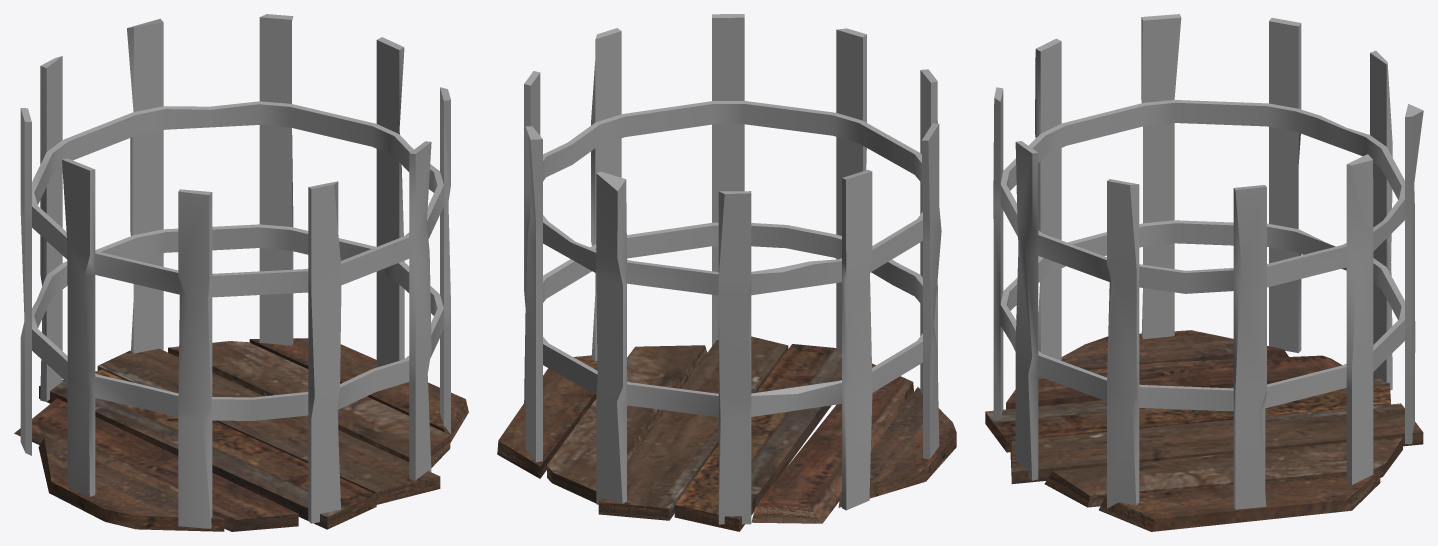
The model's file is SM_Kafes_1.fbx.
The picture shows the model from 3 angles, left to right: view 1: azimuth 30°, elevation 25°; view 2: azimuth 150°, elevation 25°; view 3: azimuth 270°, elevation 25°; orthographic projection. The views are drawn at different scales.
Parts seen in each view (by area): view 1: Wooden_open_cage.008; view 2: Wooden_open_cage.008; view 3: Wooden_open_cage.008.
Part boxes in pixels (bbox=[...]): Wooden_open_cage.008: bbox=[14, 14, 468, 531]; Wooden_open_cage.008: bbox=[497, 14, 956, 531]; Wooden_open_cage.008: bbox=[985, 14, 1423, 531].
Size of the model in its own units: 42.29 by 34.43 by 41.26.
